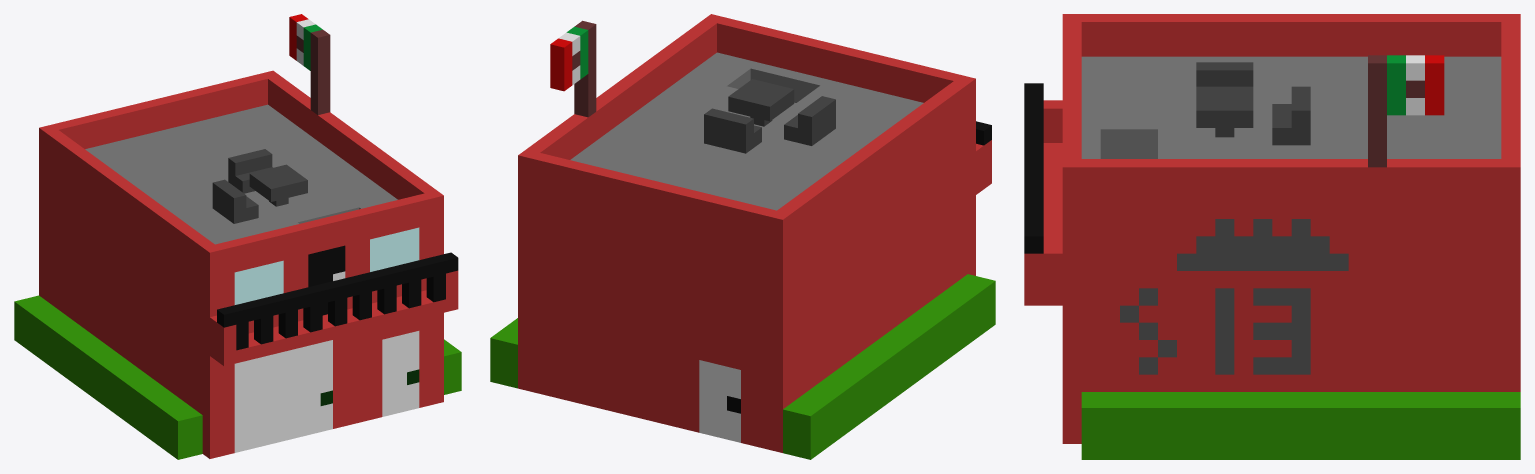
File: Casa1.1.fbx
3 views of the same model, side by side, from view 1: azimuth 30°, elevation 25°; view 2: azimuth 150°, elevation 25°; view 3: azimuth 270°, elevation 25° (orthographic). The views are drawn at different scales.
Visible parts, largest first — view 1: Cubo.3104; view 2: Cubo.3104; view 3: Cubo.3104.
Boxes of the visible parts, bbox=[...] form: Cubo.3104: bbox=[14, 14, 461, 459]; Cubo.3104: bbox=[490, 14, 995, 459]; Cubo.3104: bbox=[1024, 14, 1520, 459].
Size of the model in its own units: 2300 by 2200 by 2600.
